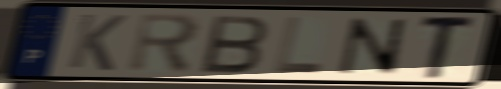B: (199, 13, 272, 75)
K: (65, 11, 130, 73)
L: (271, 15, 326, 75)
N: (337, 15, 409, 77)
R: (125, 11, 204, 76)
T: (417, 14, 480, 81)
